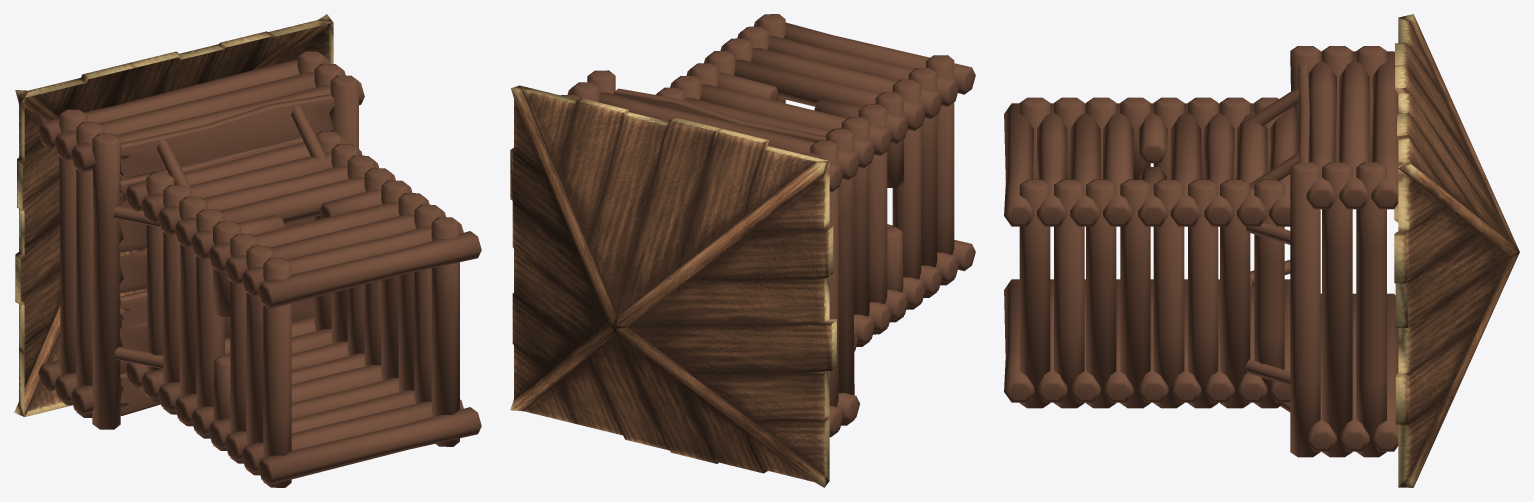
The model's file is Fort_Tower.FBX.
The picture shows the model from 3 angles, left to right: view 1: azimuth 30°, elevation 25°; view 2: azimuth 150°, elevation 25°; view 3: azimuth 270°, elevation 25°; orthographic projection.
Parts seen in each view (by area): view 1: fort_tower, Fort_tower_roof; view 2: Fort_tower_roof, fort_tower; view 3: fort_tower, Fort_tower_roof.
Part boxes in pixels (bbox=[...]): fort_tower: bbox=[38, 51, 481, 487]; Fort_tower_roof: bbox=[14, 14, 333, 416]; Fort_tower_roof: bbox=[510, 85, 836, 487]; fort_tower: bbox=[561, 14, 975, 437]; fort_tower: bbox=[1004, 46, 1398, 457]; Fort_tower_roof: bbox=[1394, 14, 1519, 487].
Bounding box in the file's own units: 5.08 × 5.05 × 7.09.
